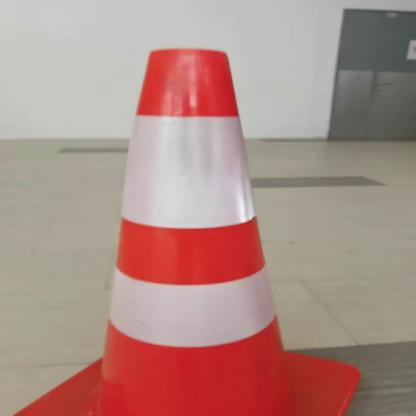cone: (11, 49, 382, 416)
